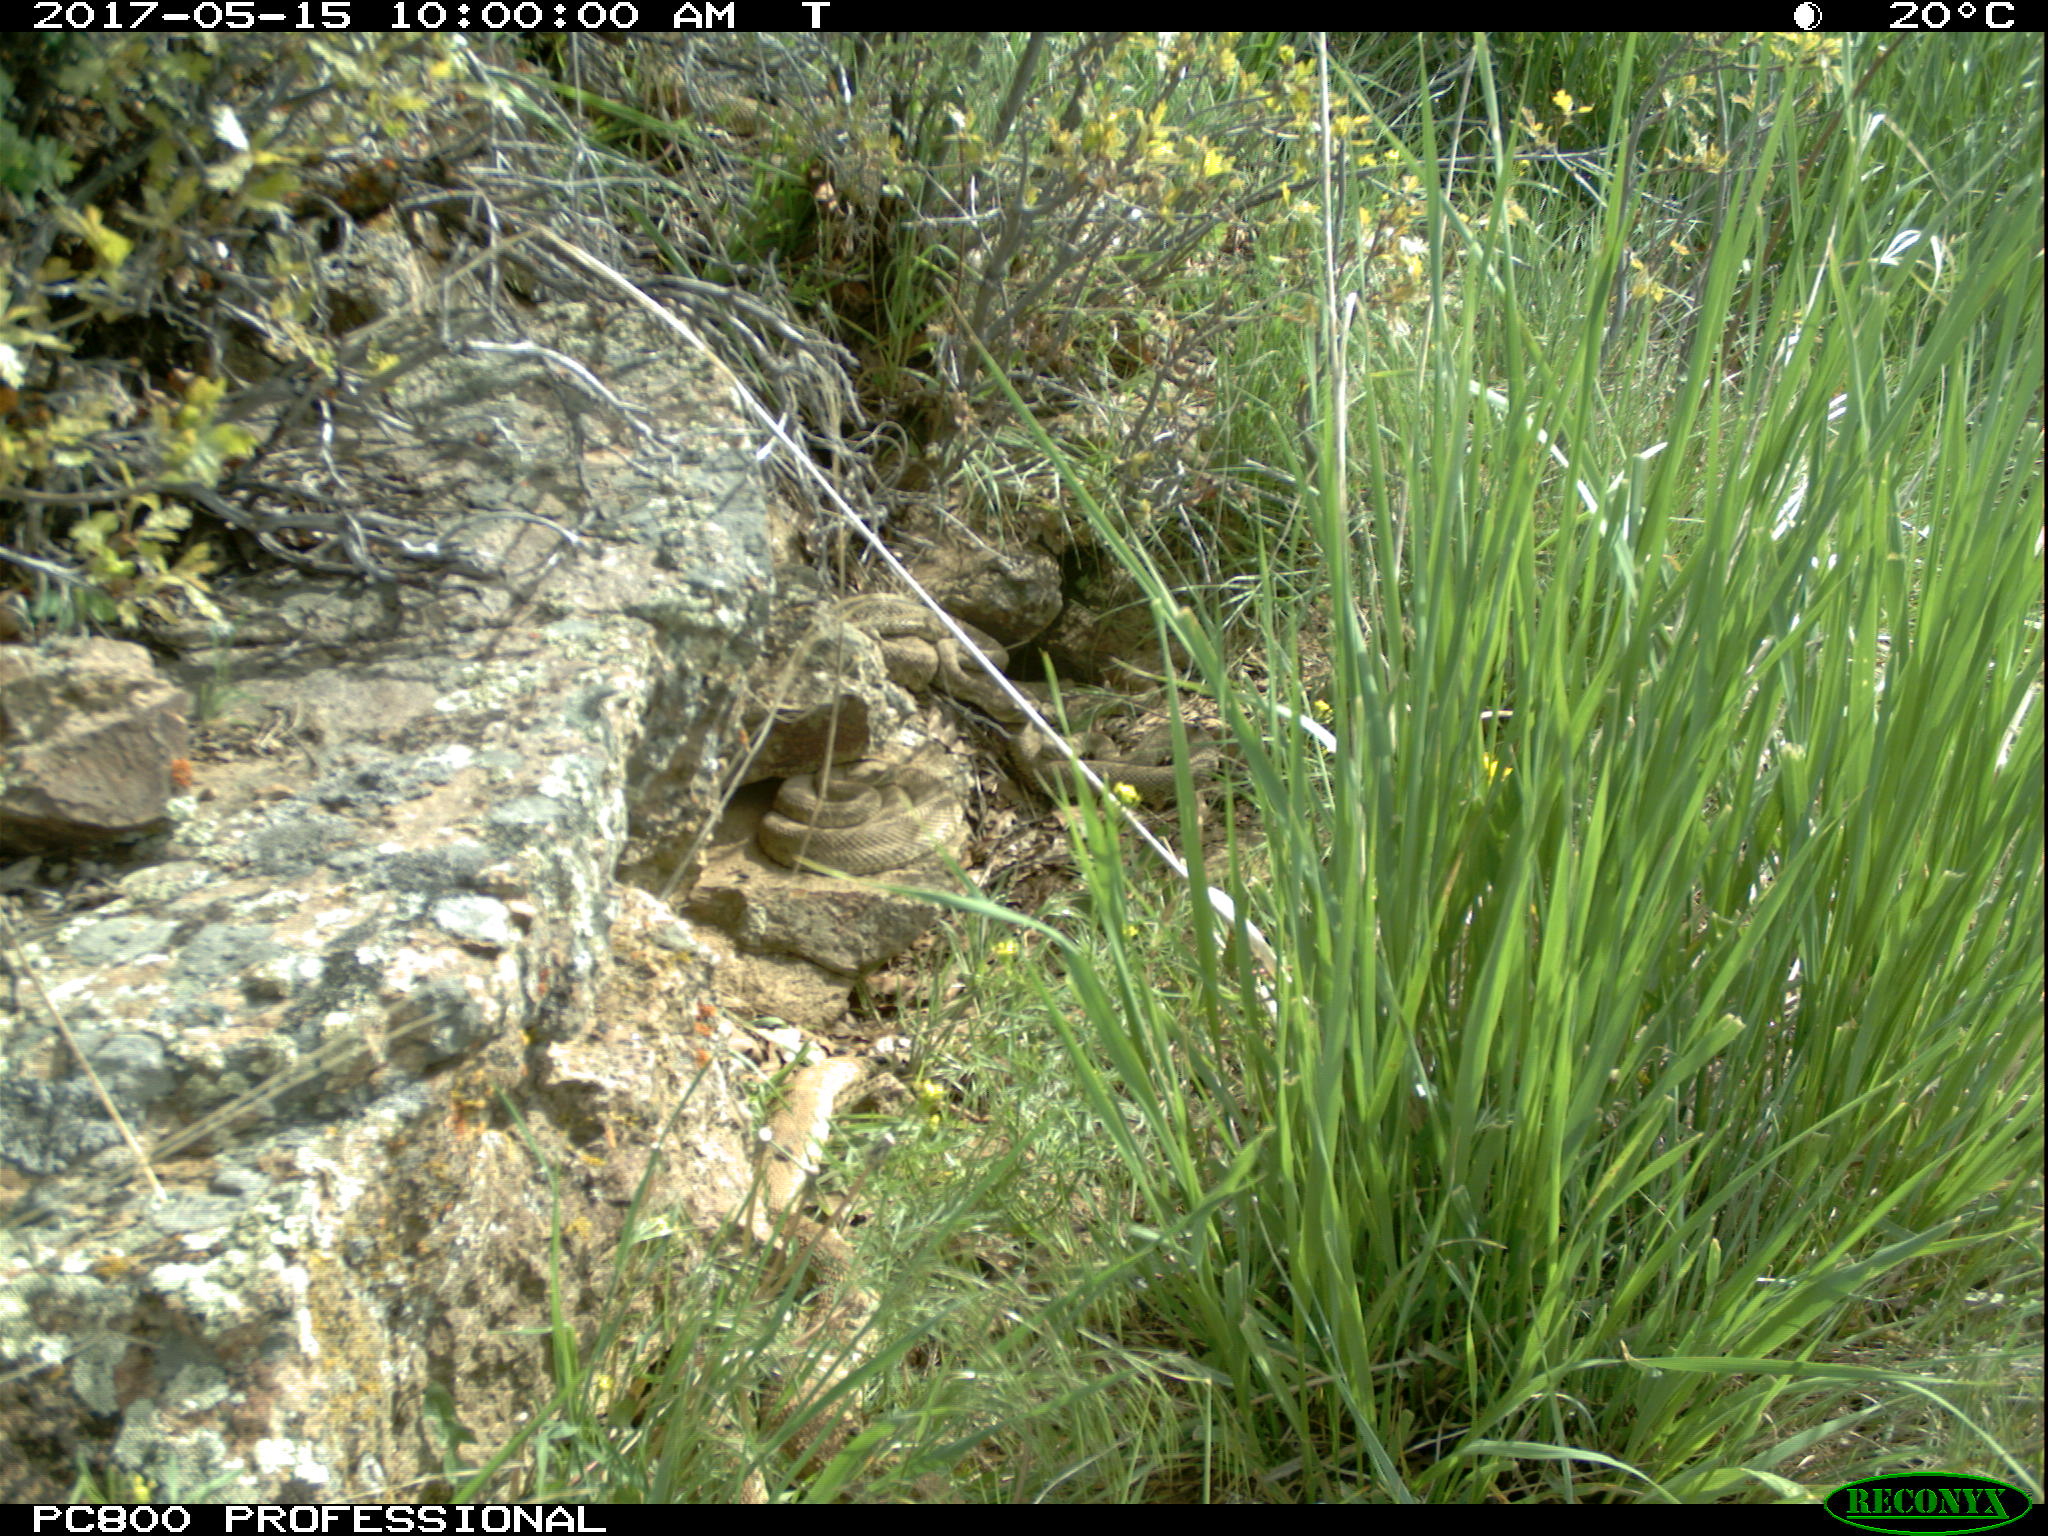snake: (755, 1049, 864, 1478), (843, 600, 1063, 708), (753, 757, 961, 870), (997, 728, 1219, 797)
